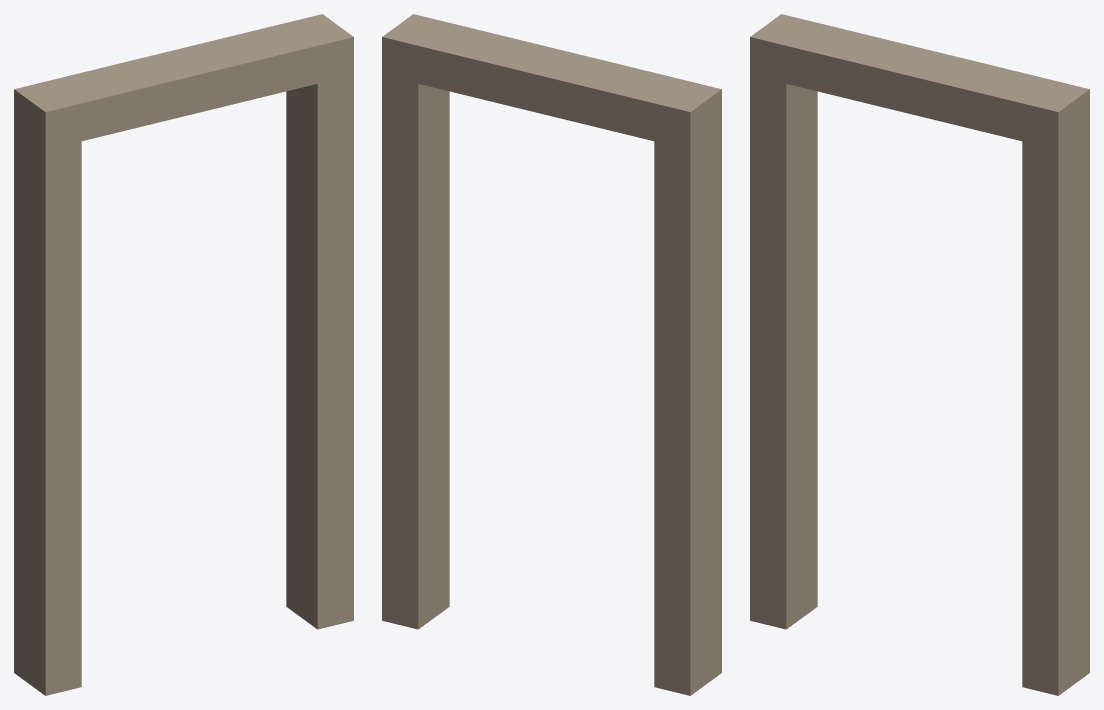
Rendered from b-doorframe.glb.
3 views of the same model, side by side, from view 1: azimuth 30°, elevation 25°; view 2: azimuth 150°, elevation 25°; view 3: azimuth 330°, elevation 25° (orthographic).
Parts seen in each view (by area): view 1: b-doorframe; view 2: b-doorframe; view 3: b-doorframe.
Boxes of the visible parts, left/top/right/bottom form: b-doorframe: left=14, top=14, right=353, bottom=695; b-doorframe: left=382, top=14, right=721, bottom=695; b-doorframe: left=750, top=14, right=1089, bottom=695.
Size of the model in its own units: 1.36 by 2.46 by 0.24.
